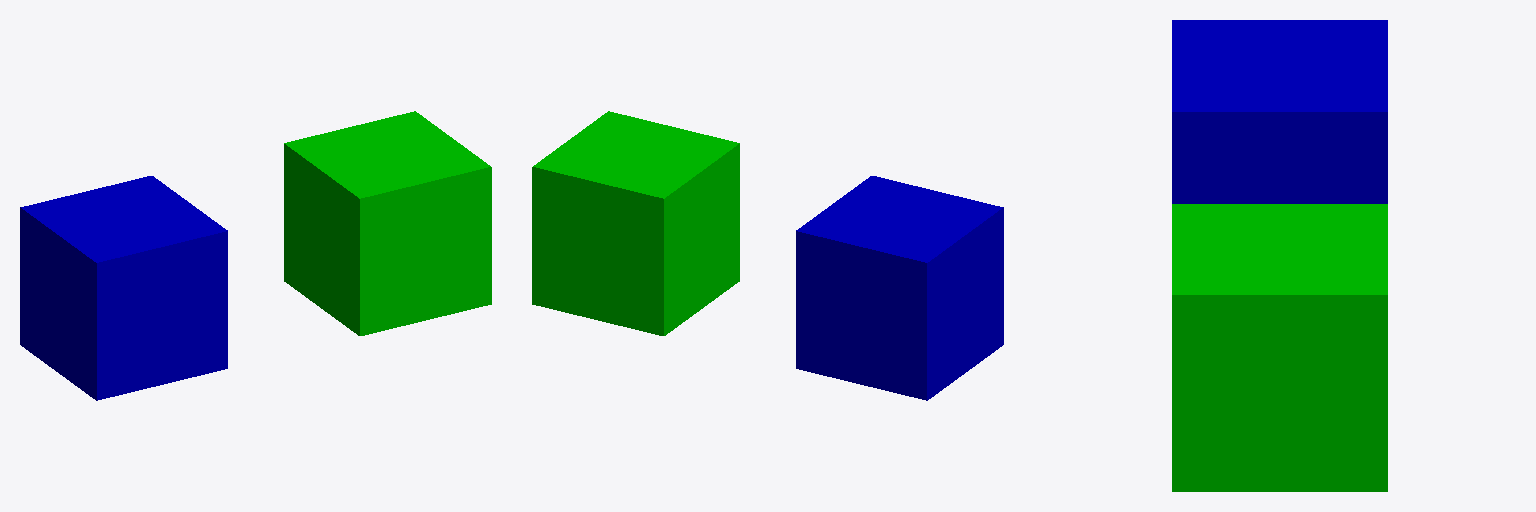
URDF robot description (A_vs_B):
<?xml version="1.0"?>
<robot name="A_vs_B">
  <material name="blue">
    <color rgba="0 0 0.8 .5"/>
  </material>
  <material name="green">
    <color rgba="0 0.8 0 .5"/>
  </material>
  <link name="A">
    <visual>
      <geometry>
        <box size="1 1 1"/>
      </geometry>
      <origin rpy="0.0 0 0" xyz="-1 0 0"/>
      <material name="blue"/>
    </visual>
  </link>
  <link name="B">
    <visual>
      <geometry>
        <box size="1 1 1"/>
      </geometry>
      <origin rpy="0 0 0" xyz="1 0 0"/>
      <material name="green"/>
    </visual>
  </link>
  <joint name="joint1" type="revolute">
    <axis xyz="0 0 1"/>
    <limit effort="1" lower="-1" upper="1" velocity="1"/>
    <origin rpy="0 0 0" xyz="0 0 0"/>
    <parent link="A"/>
    <child link="B"/>
  </joint>
</robot>

--- What the picture shows (computed from the rendered views, not written in the file) ---
3 views of the same robot in one strip: view 1: azimuth 30°, elevation 25°; view 2: azimuth 150°, elevation 25°; view 3: azimuth 270°, elevation 25° (orthographic).
Model A_vs_B with 2 links and 1 joints (1 revolute), rooted at A, posed all joints at 0.
Visible links, largest first — view 1: A, B; view 2: A, B; view 3: B, A.
Boxes of the visible links, <box> form: A: <box>20,176,227,400</box>; B: <box>284,111,491,335</box>; A: <box>796,176,1003,400</box>; B: <box>532,111,739,335</box>; B: <box>1172,204,1387,491</box>; A: <box>1172,20,1387,203</box>.
Size in the robot's own frame: 3 by 1 by 1 metres.
Geometry: primitives only (box / cylinder / sphere), no mesh files.